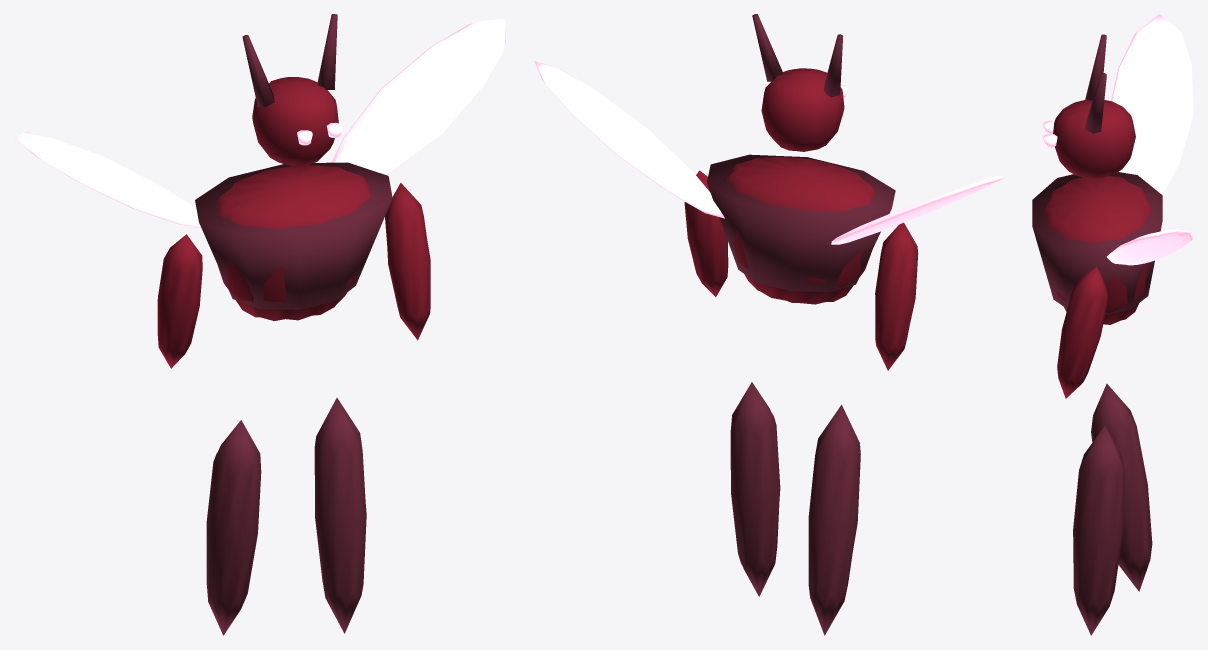
Rendered from abyss_fiend.glb.
3 renders of one model, left to right at view 1: azimuth 30°, elevation 25°; view 2: azimuth 150°, elevation 25°; view 3: azimuth 270°, elevation 25°, orthographic. The views are drawn at different scales.
Parts seen in each view (by area): view 1: ChestGear, Wing_1, Torso.001, Leg_LegR, Leg_LegL, Wing_-1, Head.001, Arm_ArmR, Arm_ArmL, Horn_-0.059, Horn_0.059; view 2: ChestGear, Leg_LegL, Leg_LegR, Torso.001, Wing_1, Head.001, Arm_ArmL, Arm_ArmR, Wing_-1, Horn_0.059, Horn_-0.059; view 3: Wing_-1, Leg_LegR, Torso.001, ChestGear, Leg_LegL, Head.001, Arm_ArmR, Wing_1, Horn_0.059, Horn_-0.059.
Boxes of the visible parts, bbox=[...] form: ChestGear: bbox=[195, 162, 392, 309]; Wing_1: bbox=[331, 18, 505, 174]; Torso.001: bbox=[216, 165, 371, 320]; Leg_LegR: bbox=[314, 398, 366, 633]; Leg_LegL: bbox=[206, 420, 261, 635]; Wing_-1: bbox=[15, 132, 201, 228]; Head.001: bbox=[252, 77, 338, 165]; Arm_ArmR: bbox=[385, 183, 430, 340]; Arm_ArmL: bbox=[157, 234, 202, 368]; Horn_-0.059: bbox=[242, 35, 274, 106]; Horn_0.059: bbox=[317, 14, 337, 89]; ChestGear: bbox=[707, 154, 895, 291]; Leg_LegL: bbox=[808, 404, 860, 635]; Leg_LegR: bbox=[730, 382, 780, 596]; Torso.001: bbox=[726, 156, 875, 304]; Wing_1: bbox=[534, 61, 724, 218]; Head.001: bbox=[761, 68, 844, 151]; Arm_ArmL: bbox=[875, 222, 918, 370]; Arm_ArmR: bbox=[684, 170, 728, 296]; Wing_-1: bbox=[831, 175, 1003, 244]; Horn_0.059: bbox=[752, 14, 782, 81]; Horn_-0.059: bbox=[824, 34, 843, 97]; Wing_-1: bbox=[1110, 14, 1193, 194]; Leg_LegR: bbox=[1073, 426, 1124, 635]; Torso.001: bbox=[1043, 176, 1151, 324]; ChestGear: bbox=[1032, 172, 1162, 314]; Leg_LegL: bbox=[1091, 383, 1152, 591]; Head.001: bbox=[1053, 100, 1135, 178]; Arm_ArmR: bbox=[1057, 267, 1108, 398]; Wing_1: bbox=[1107, 229, 1193, 265]; Horn_0.059: bbox=[1085, 73, 1106, 133]; Horn_-0.059: bbox=[1085, 34, 1106, 100].
Size of the model in its own units: 1.95 by 2.34 by 0.6115.
Materials: 3 (3 with a texture image).
